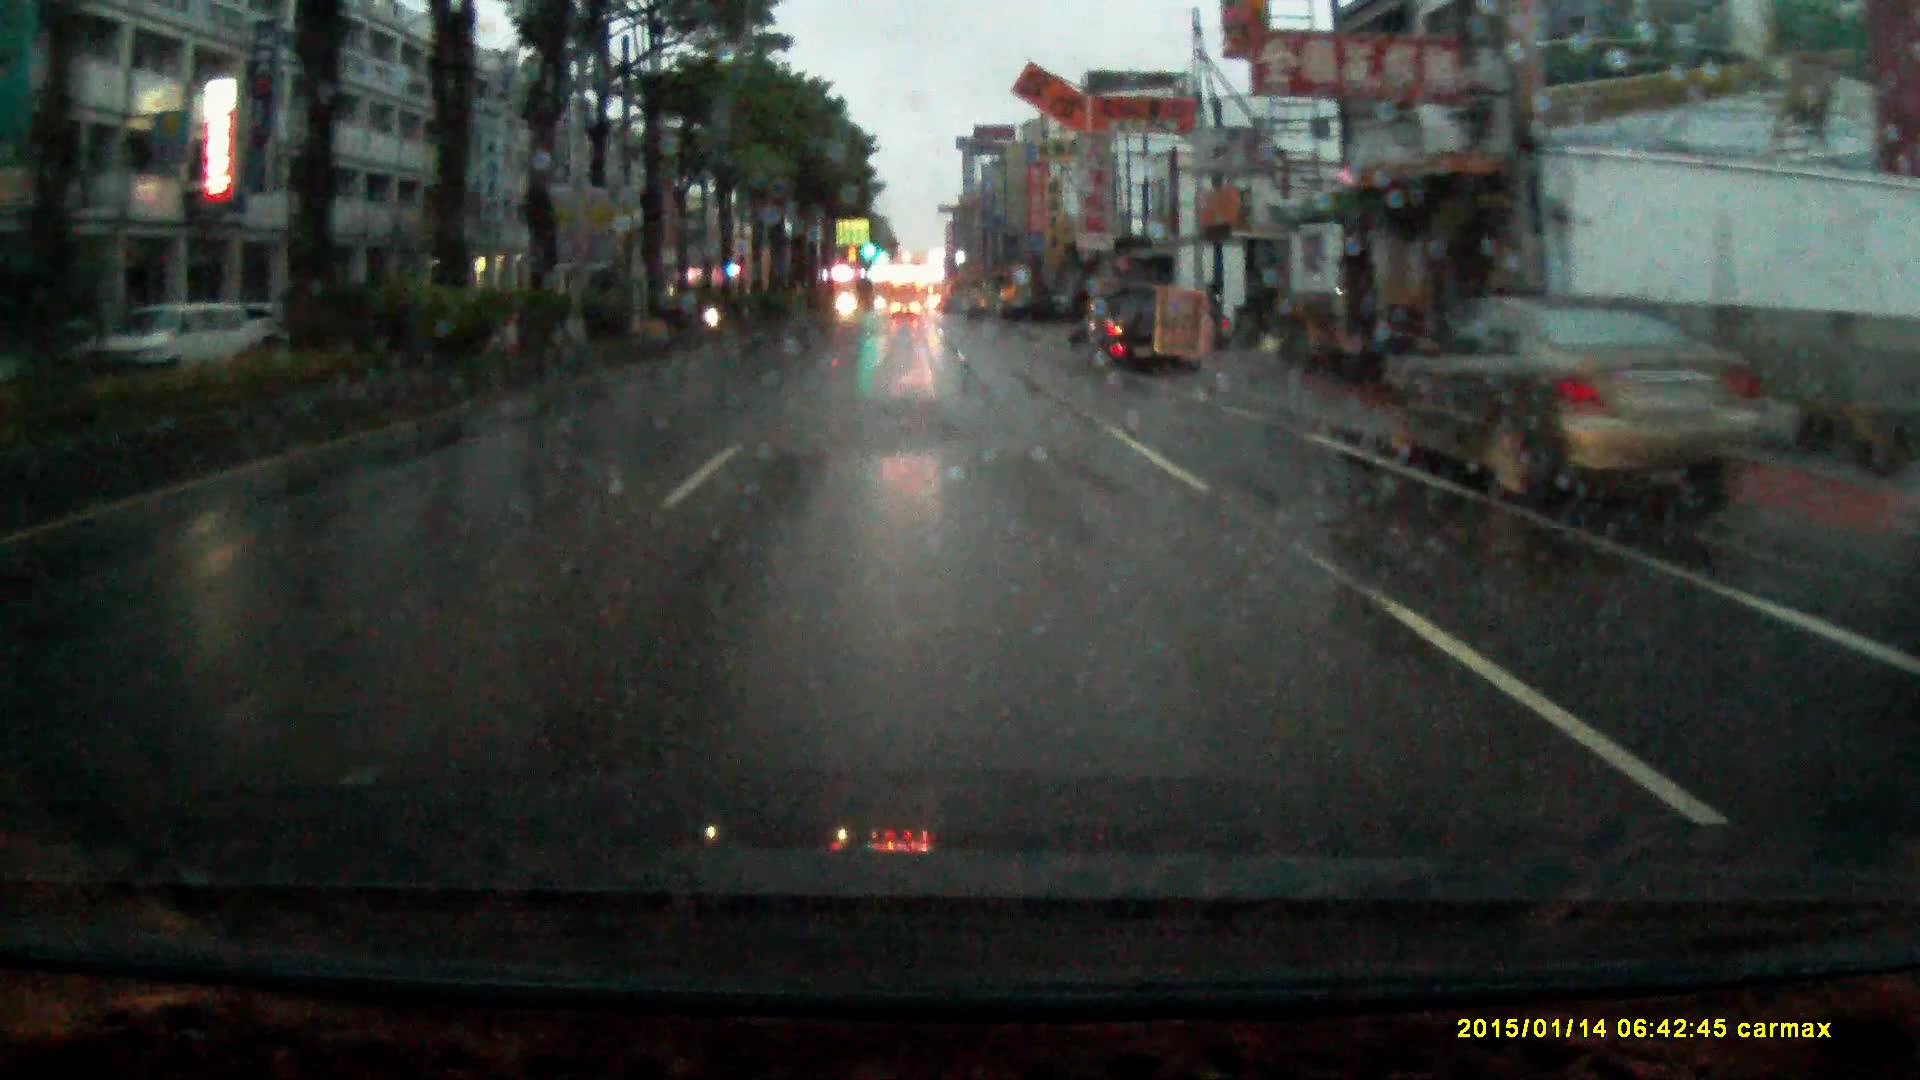vehicle: (1379, 284, 1793, 509), (105, 301, 262, 372), (1075, 277, 1189, 372), (13, 313, 112, 377), (891, 294, 920, 315)
